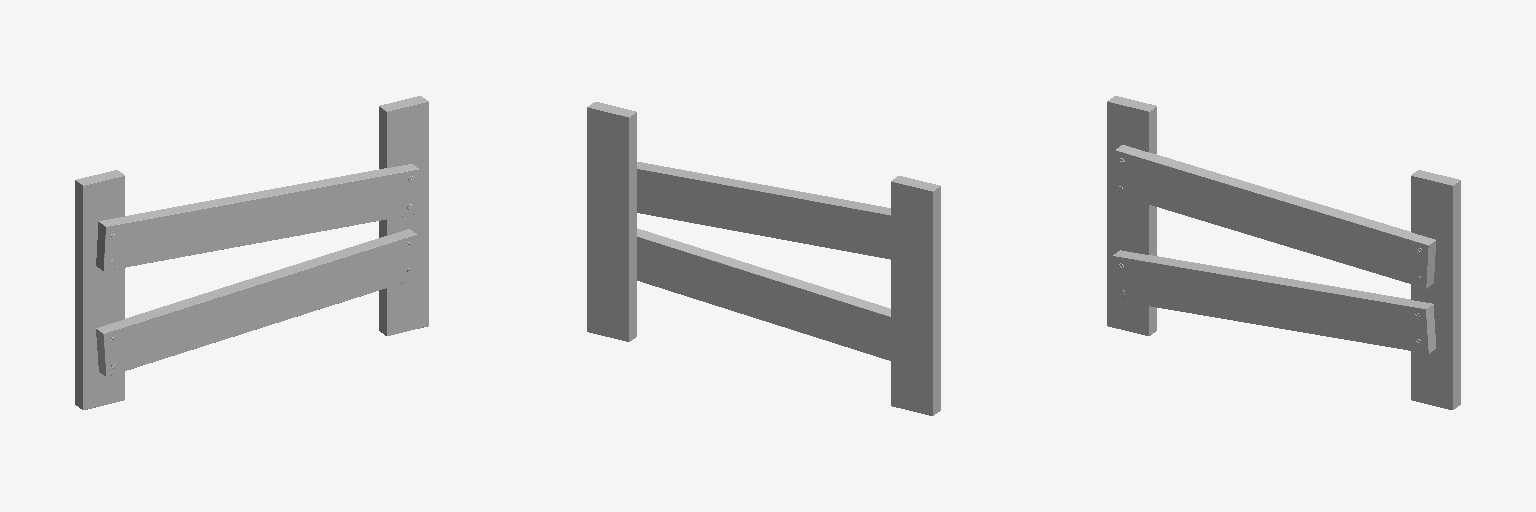
The model's file is fence3.obj.
3 views of the same model, side by side, from view 1: azimuth 30°, elevation 25°; view 2: azimuth 150°, elevation 25°; view 3: azimuth 330°, elevation 25° (orthographic).
Visible parts, largest first — view 1: Fence3; view 2: Fence3; view 3: Fence3.
Boxes of the visible parts, x1,y1,x2,y2 form: Fence3: [75, 96, 428, 409]; Fence3: [587, 102, 940, 415]; Fence3: [1107, 96, 1460, 409].
Size of the model in its own units: 3.51 by 2.18 by 0.2806.